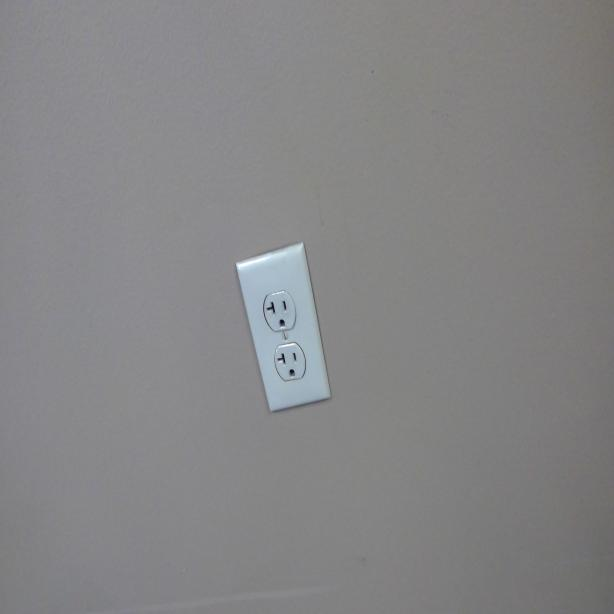typeb: (262, 285, 295, 328), (274, 344, 304, 383)
